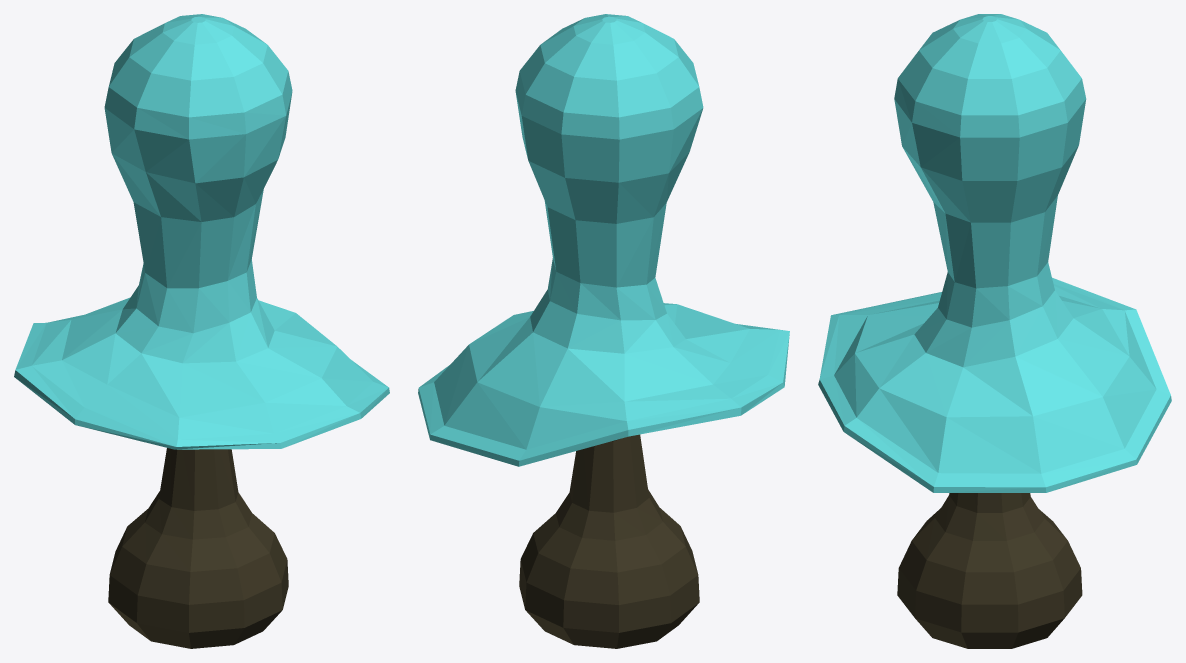
Rendered from ChampiCloche.FBX.
The picture shows the model from 3 angles, left to right: view 1: azimuth 30°, elevation 25°; view 2: azimuth 150°, elevation 25°; view 3: azimuth 270°, elevation 25°; orthographic projection.
Visible parts, largest first — view 1: Sphere005; view 2: Sphere005; view 3: Sphere005.
Part boxes in pixels (x1,y1,x2,y2): Sphere005: [14, 14, 389, 648]; Sphere005: [418, 14, 789, 648]; Sphere005: [818, 14, 1171, 648].
Bounding box in the file's own units: 0.3205 × 0.5762 × 0.3044.
